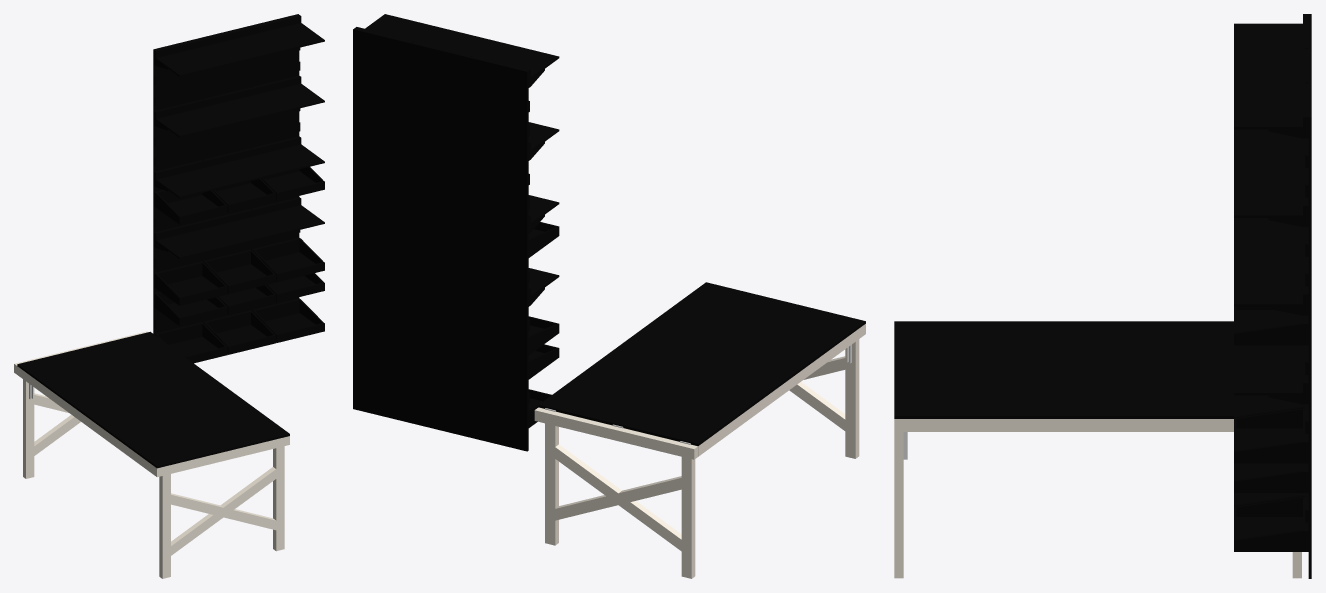
The model's file is Workbench_garage.gltf.
The picture shows the model from 3 angles, left to right: view 1: azimuth 30°, elevation 25°; view 2: azimuth 150°, elevation 25°; view 3: azimuth 270°, elevation 25°; orthographic projection. The views are drawn at different scales.
Visible parts, largest first — view 1: Offerskiva, Body1.062, Body2.019, Body2.018, Body2.021, Body2.020, Body4.002, Body1.049, Body1.052, Body3.001, Body7, Body5 (+41 smaller); view 2: Body1.062, Offerskiva, Body2.018, Body2.023, Body3.002, Body4.003, Body7, Body1.003, Body1.004, Body2.004, Body4.002, Skiva; view 3: Offerskiva, Body2.018, Body2.020, Body2.019, Body8, Body2.021, Body1.062, Body3.009, Body3.006, Body3.015, Body2.003, Body4.009 (+8 smaller).
Boxes of the visible parts, <box> form: Offerskiva: <box>17,331,289,466</box>; Body1.062: <box>153,14,299,333</box>; Body2.019: <box>156,83,324,137</box>; Body2.018: <box>156,23,324,76</box>; Body2.021: <box>156,205,324,258</box>; Body2.020: <box>156,144,324,198</box>; Body4.002: <box>161,463,284,561</box>; Body1.049: <box>154,61,300,105</box>; Body1.052: <box>154,122,300,166</box>; Body3.001: <box>161,492,284,532</box>; Body7: <box>17,366,162,474</box>; Body5: <box>154,437,289,477</box>; Body1.062: <box>353,28,528,451</box>; Offerskiva: <box>539,282,865,443</box>; Body2.018: <box>365,14,559,78</box>; Body2.023: <box>534,407,697,459</box>; Body3.002: <box>545,440,693,558</box>; Body4.003: <box>545,474,693,522</box>; Body7: <box>693,324,865,453</box>; Body1.003: <box>845,339,859,458</box>; Body1.004: <box>681,457,695,578</box>; Body2.004: <box>545,423,558,545</box>; Body4.002: <box>789,382,859,437</box>; Skiva: <box>538,322,865,445</box>; Offerskiva: <box>894,321,1233,416</box>; Body2.018: <box>1234,23,1302,129</box>; Body2.020: <box>1234,218,1302,306</box>; Body2.019: <box>1234,129,1302,217</box>; Body8: <box>894,419,1233,431</box>; Body2.021: <box>1234,345,1302,395</box>; Body1.062: <box>1308,14,1311,578</box>; Body3.009: <box>1236,428,1302,463</box>; Body3.006: <box>1236,310,1302,345</box>; Body3.015: <box>1236,517,1302,551</box>; Body2.003: <box>894,432,903,578</box>; Body4.009: <box>1236,408,1302,428</box>.
Size of the model in its own units: 2.35 by 3.1 by 2.05.
